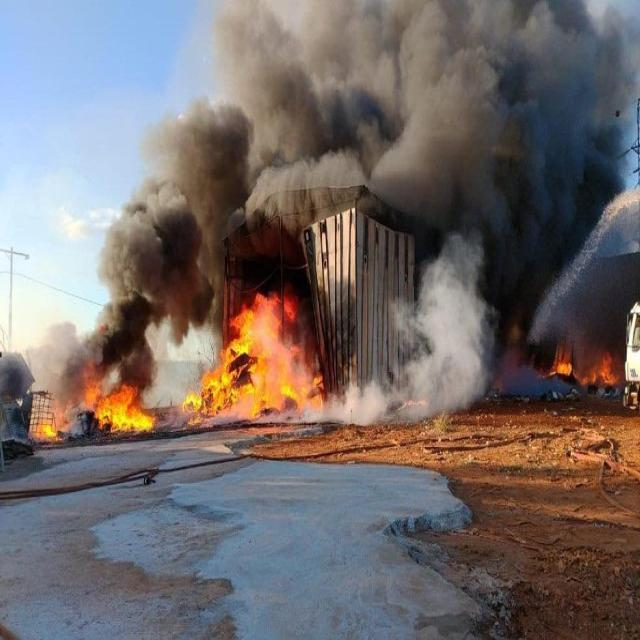Fire: (181, 280, 320, 412), (84, 361, 156, 431), (556, 343, 622, 387), (393, 387, 432, 414), (42, 410, 58, 440)
Smoke: (83, 6, 638, 220), (381, 233, 498, 415), (92, 228, 195, 384), (322, 384, 387, 429)
